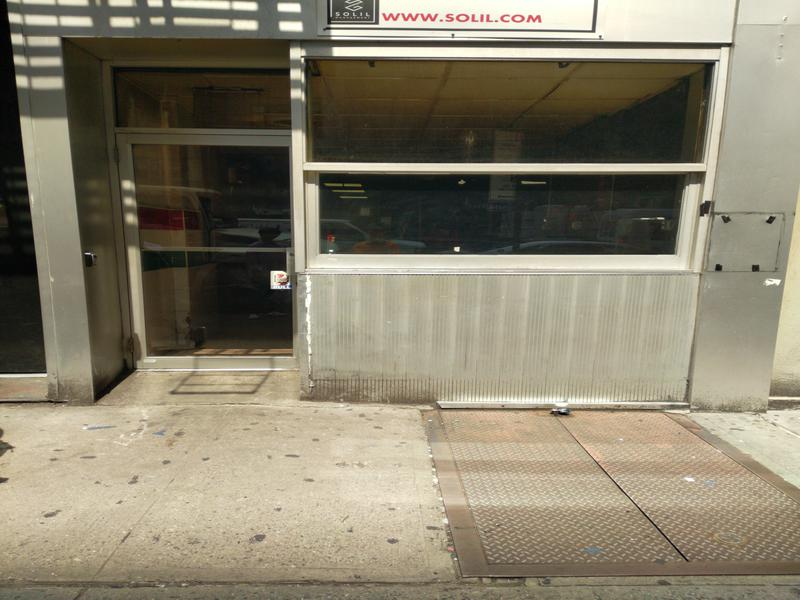door: (109, 116, 321, 374)
